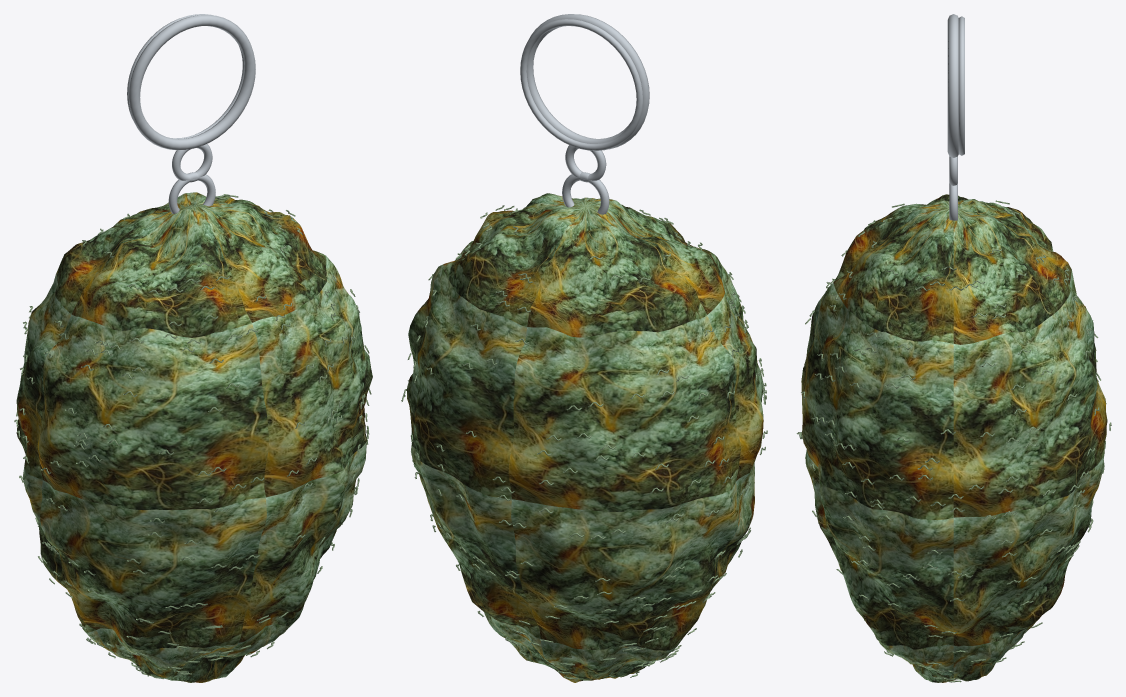
Rendered from brilok-green.glb.
3 views of the same model, side by side, from view 1: azimuth 30°, elevation 25°; view 2: azimuth 150°, elevation 25°; view 3: azimuth 270°, elevation 25° (orthographic).
Visible parts, largest first — view 1: brilok-green; view 2: brilok-green; view 3: brilok-green.
Boxes of the visible parts, x1,y1,x2,y2 form: brilok-green: (14,14,372,682); brilok-green: (401,14,767,682); brilok-green: (796,14,1111,682).
Bounding box in the file's own units: 1.52 × 2.93 × 1.28.
3 materials, 2 textured.
